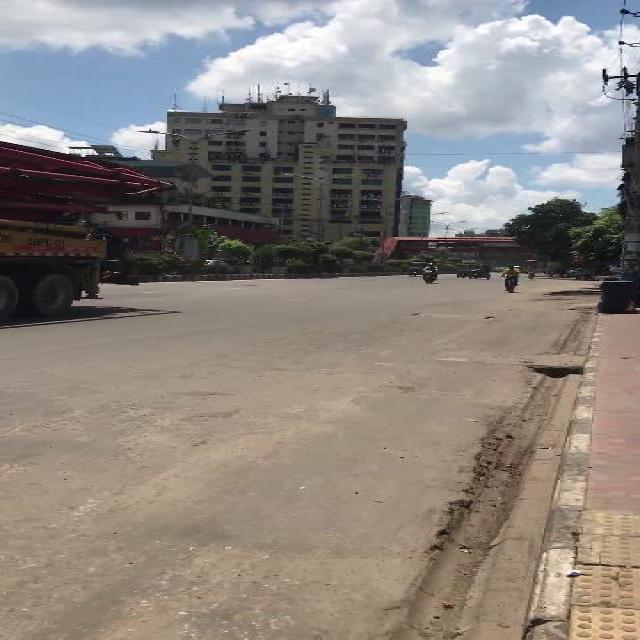bicycle: (500, 264, 520, 294), (526, 264, 534, 280)
motorbike: (420, 261, 438, 283)
three wheelers -CNG-: (466, 263, 489, 279), (406, 260, 426, 276), (457, 263, 467, 277)
truck: (2, 138, 176, 324)
